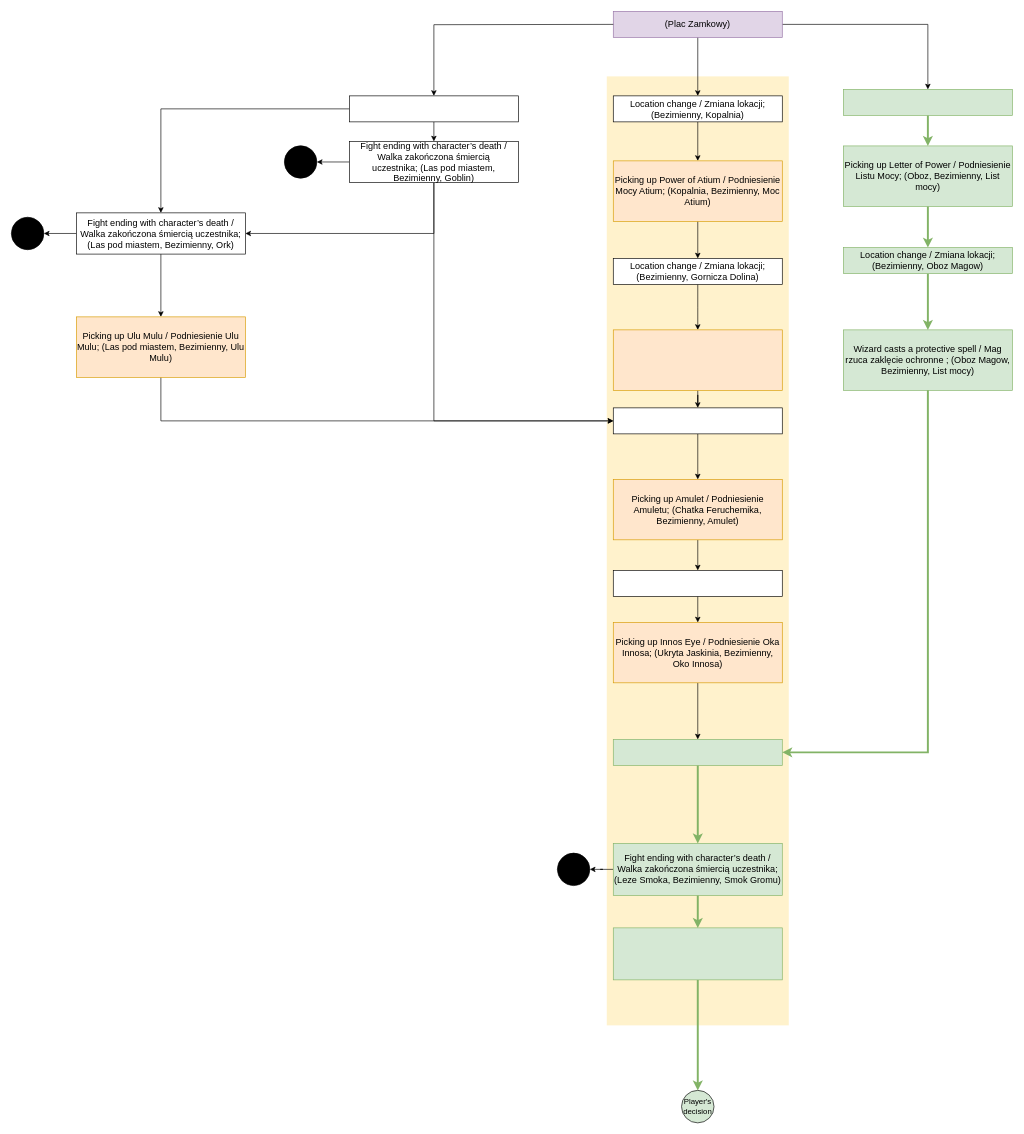
This 1024x1134 diagram has some shape labels left out. Here are the shapes that lost their labels. From the top down, the centre of each, then its label:
At [433,108]: "Location change / Zmiana lokacji; (Bezimienny, Las pod miastem)".
At [927,102]: "Location change / Zmiana lokacji; (Bezimienny, Oboz)".
At [697,359]: "Picking up Ore / Podniesienie Rudy; (Gornicza Dolina, Bezimienny, Ore)".
At [697,420]: "Location change / Zmiana lokacji; (Bezimienny, Chatka Feruchemika)".
At [697,583]: "Location change / Zmiana lokacji; (Bezimienny, Ukryta Jaskinia)".
At [697,752]: "Location change / Zmiana lokacji; (Bezimienny, Leze Smoka)".
At [697,953]: "Picking item up / Podniesienie przedmiotu; (Leze Smoka, Bezimienny, Dragon_egg)".
